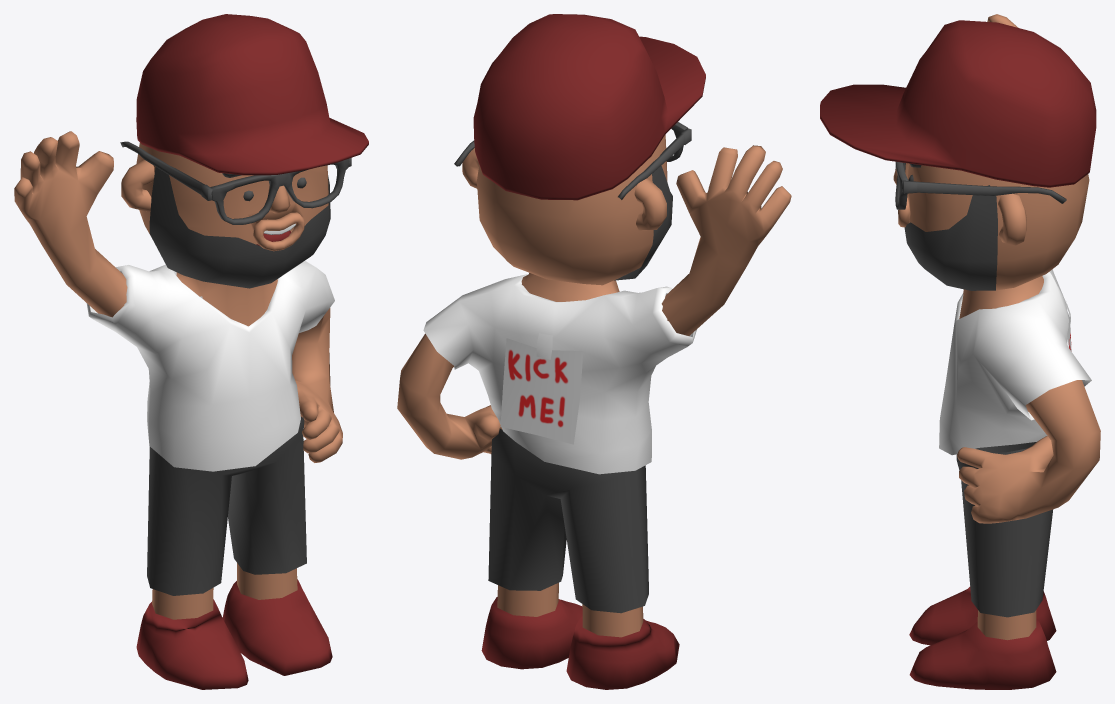
3 renders of one model, left to right at view 1: azimuth 30°, elevation 25°; view 2: azimuth 150°, elevation 25°; view 3: azimuth 270°, elevation 25°, orthographic.
Visible parts, largest first — view 1: Full.003; view 2: Full.003; view 3: Full.003.
Part boxes in pixels (x1=…): Full.003: x1=14, y1=14, x2=368, y2=689; Full.003: x1=397, y1=14, x2=791, y2=689; Full.003: x1=820, y1=14, x2=1100, y2=689.
Bounding box in the file's own units: 0.8324 × 1.42 × 0.5788.
5 materials, 1 textured.
